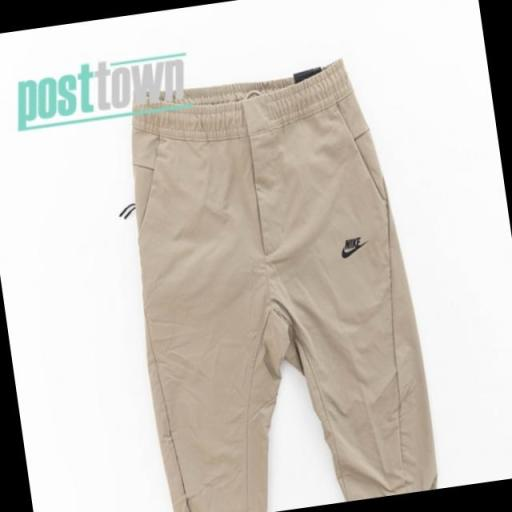Nike: (340, 245, 366, 260), (342, 237, 364, 250)
